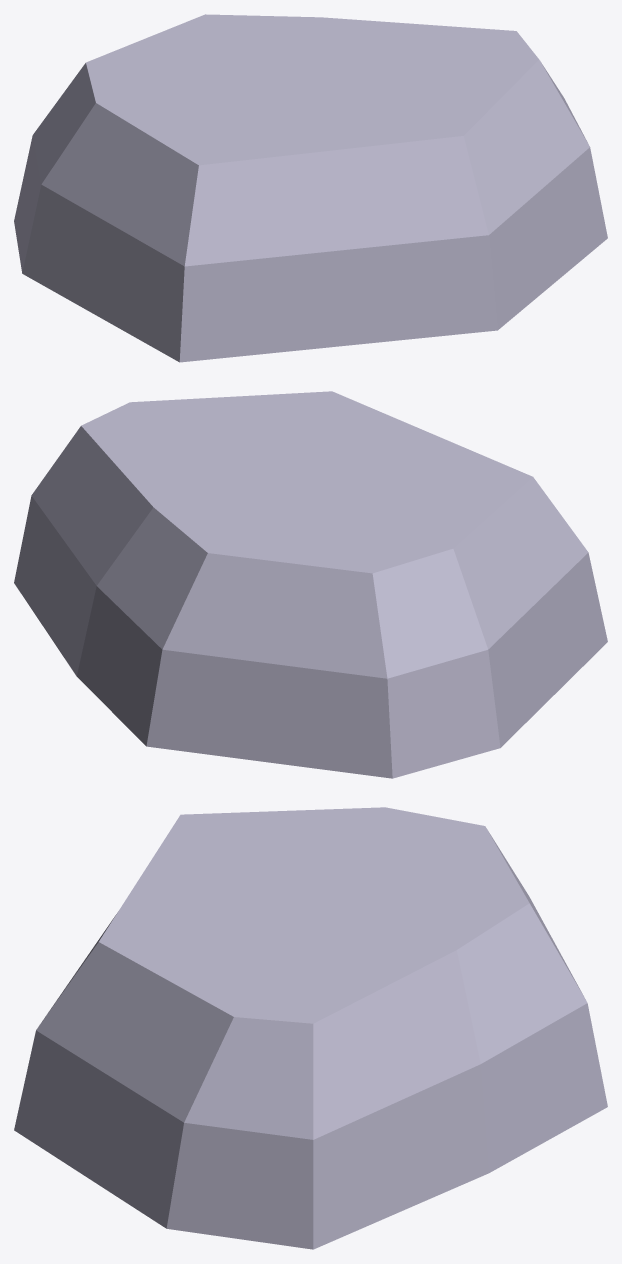
The model's file is Barrior-stone02.fbx.
3 views of the same model, one above another, from view 1: azimuth 30°, elevation 25°; view 2: azimuth 150°, elevation 25°; view 3: azimuth 270°, elevation 25° (orthographic). The views are drawn at different scales.
Parts seen in each view (by area): view 1: Barrior-stone02; view 2: Barrior-stone02; view 3: Barrior-stone02.
Boxes of the visible parts, x1,y1,x2,y2 form: Barrior-stone02: (14,14,607,362); Barrior-stone02: (14,391,607,778); Barrior-stone02: (14,807,607,1249).
Size of the model in its own units: 2227 by 691 by 1959.
